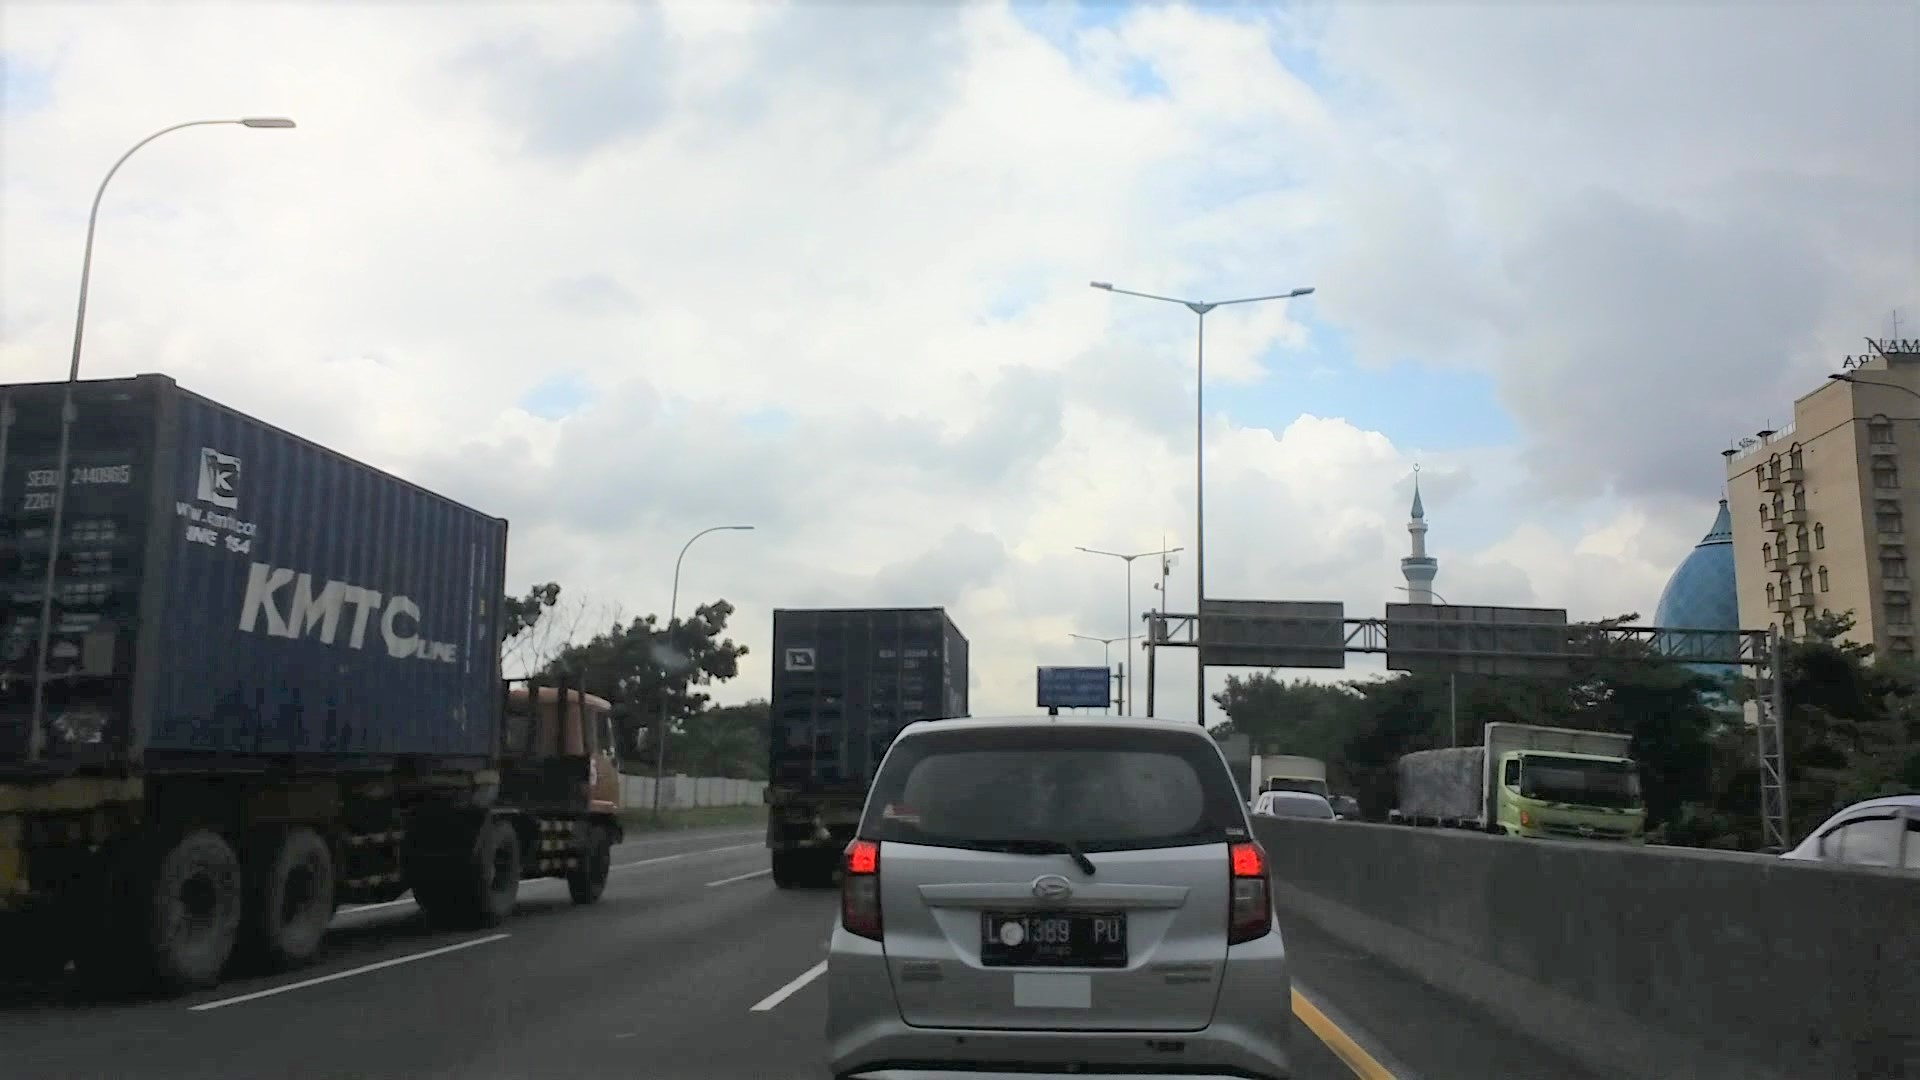plate_positive: (981, 909, 1127, 967)
